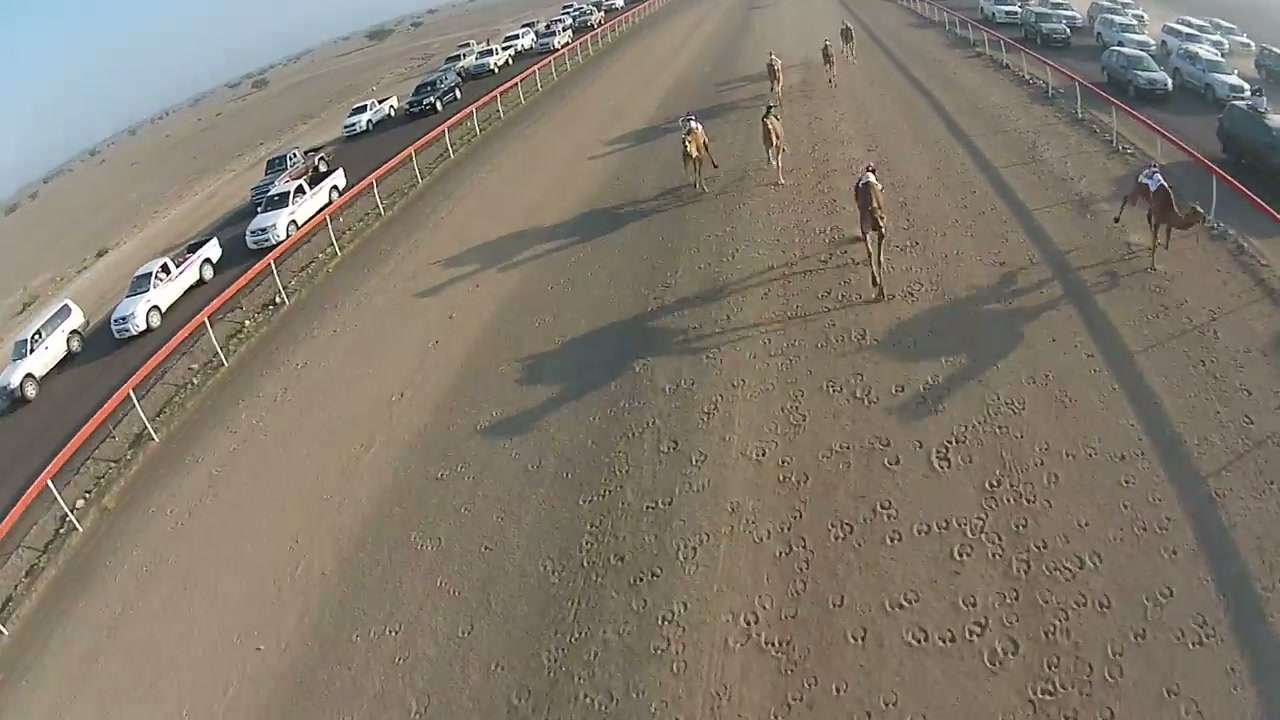animal_footprint: (631, 167, 1226, 718)
